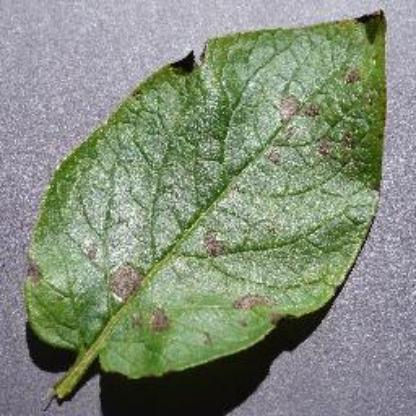Early-Blight: (22, 10, 394, 402)
